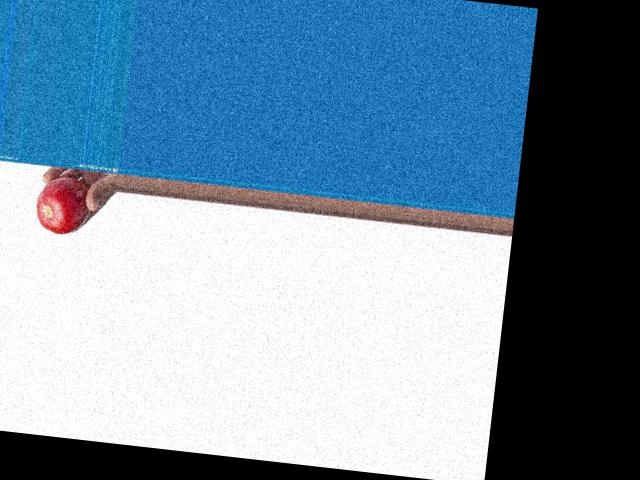tomato: (33, 174, 93, 236)
